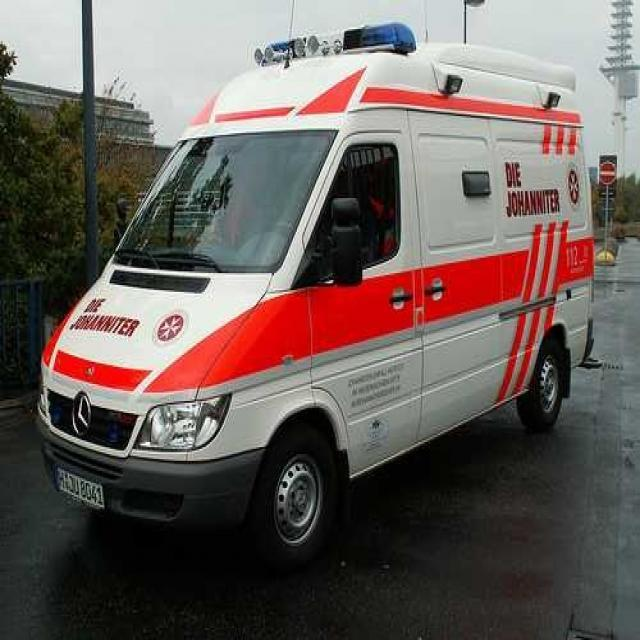emergency-vehicle: (39, 21, 606, 558)
